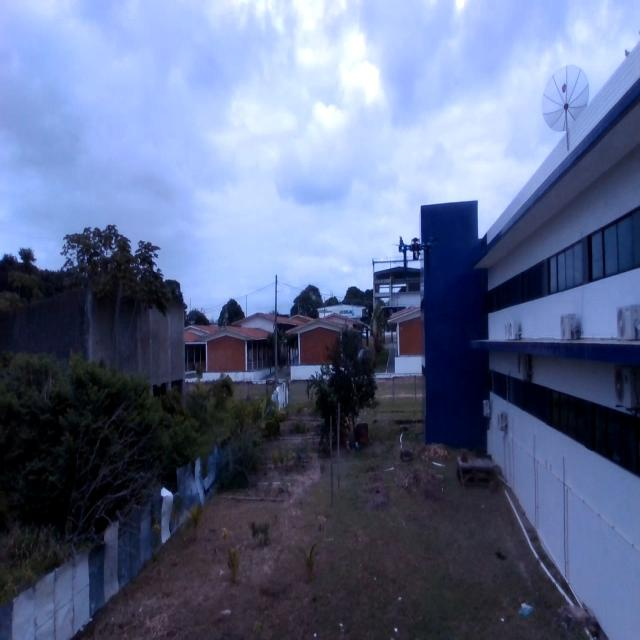-uav-: (377, 215, 455, 296)
